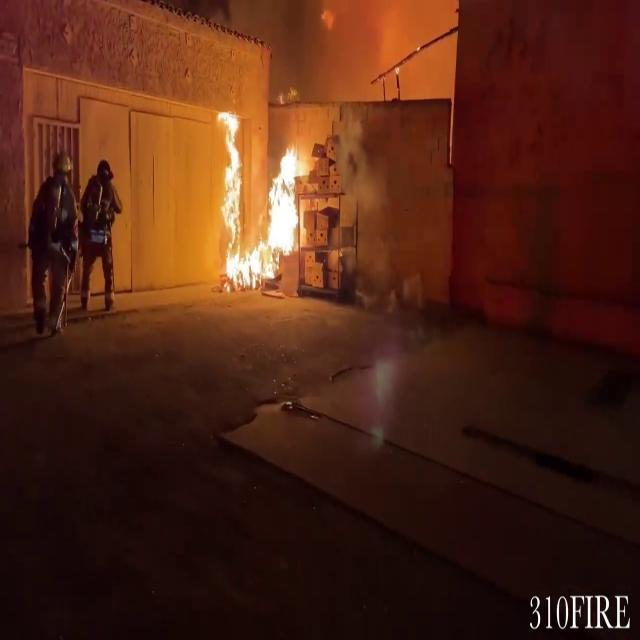Fire: (210, 102, 313, 292)
